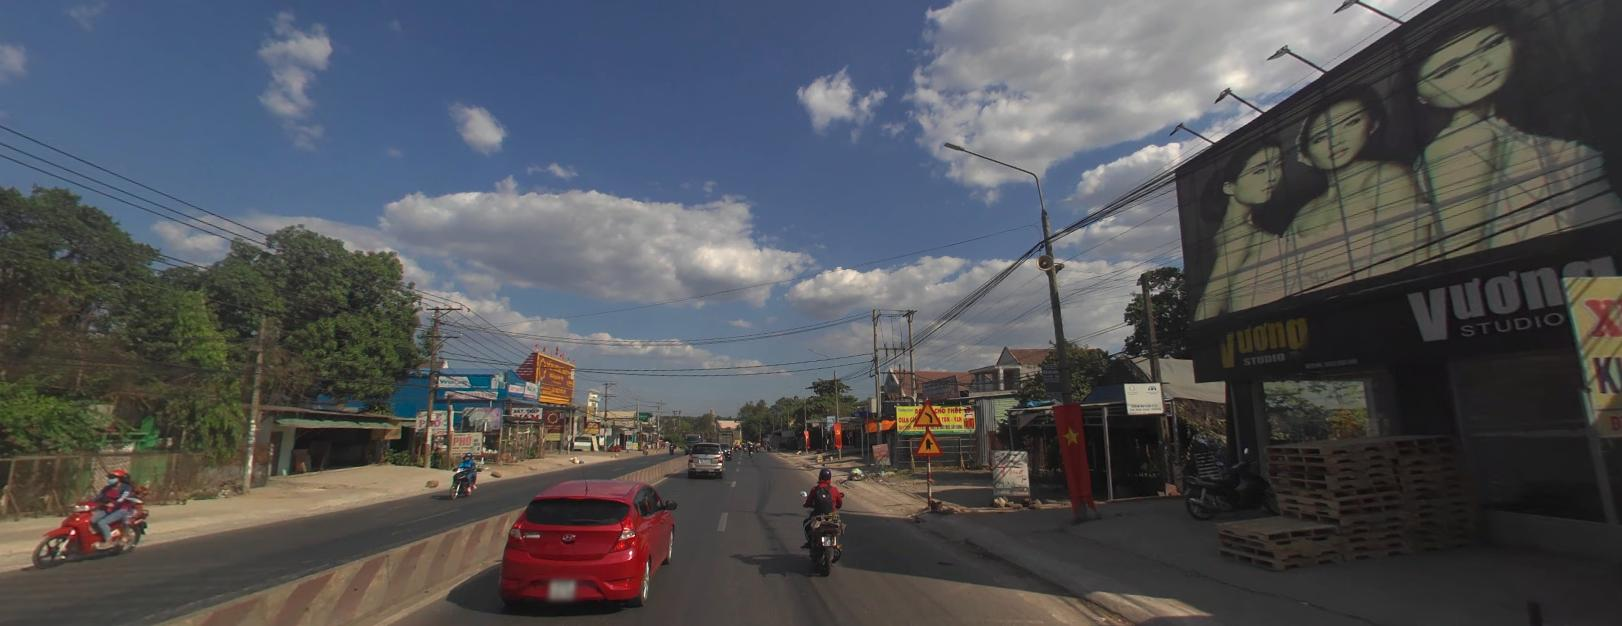Nguy hiem: (913, 397, 944, 425), (914, 427, 943, 454)
